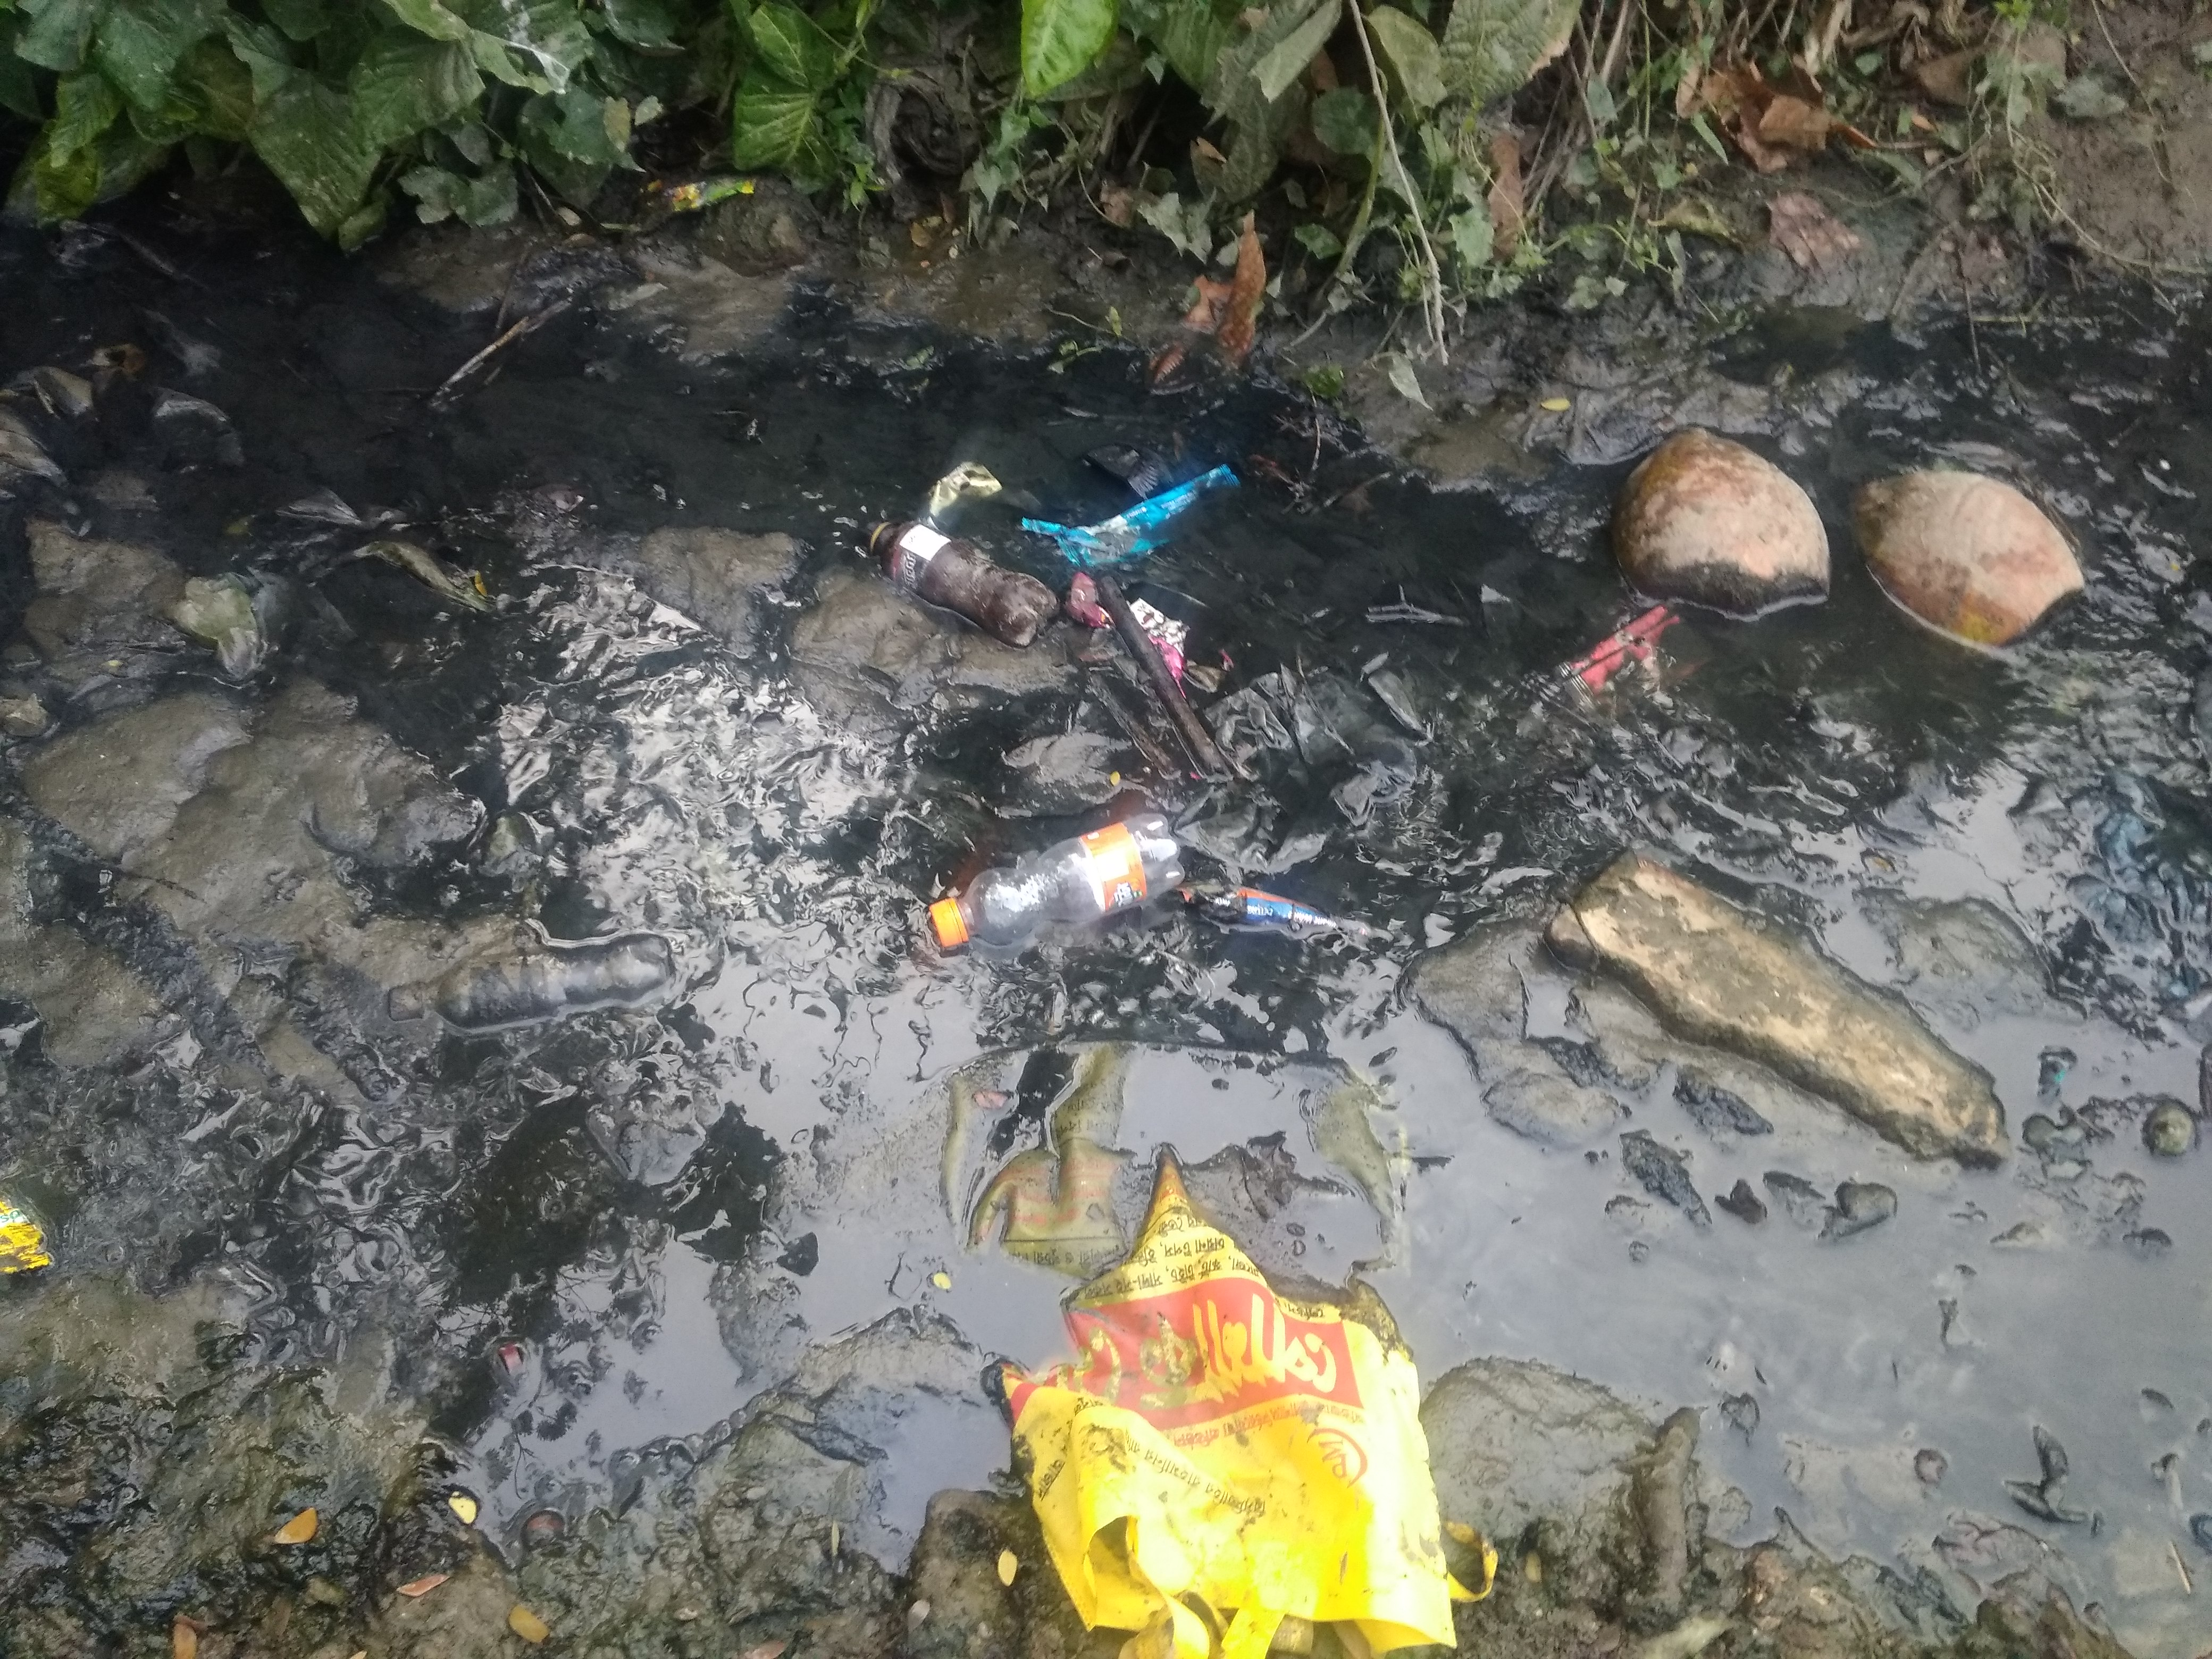Plastic Bottle: (928, 812, 1186, 948), (390, 934, 679, 1028), (864, 519, 1061, 648)
